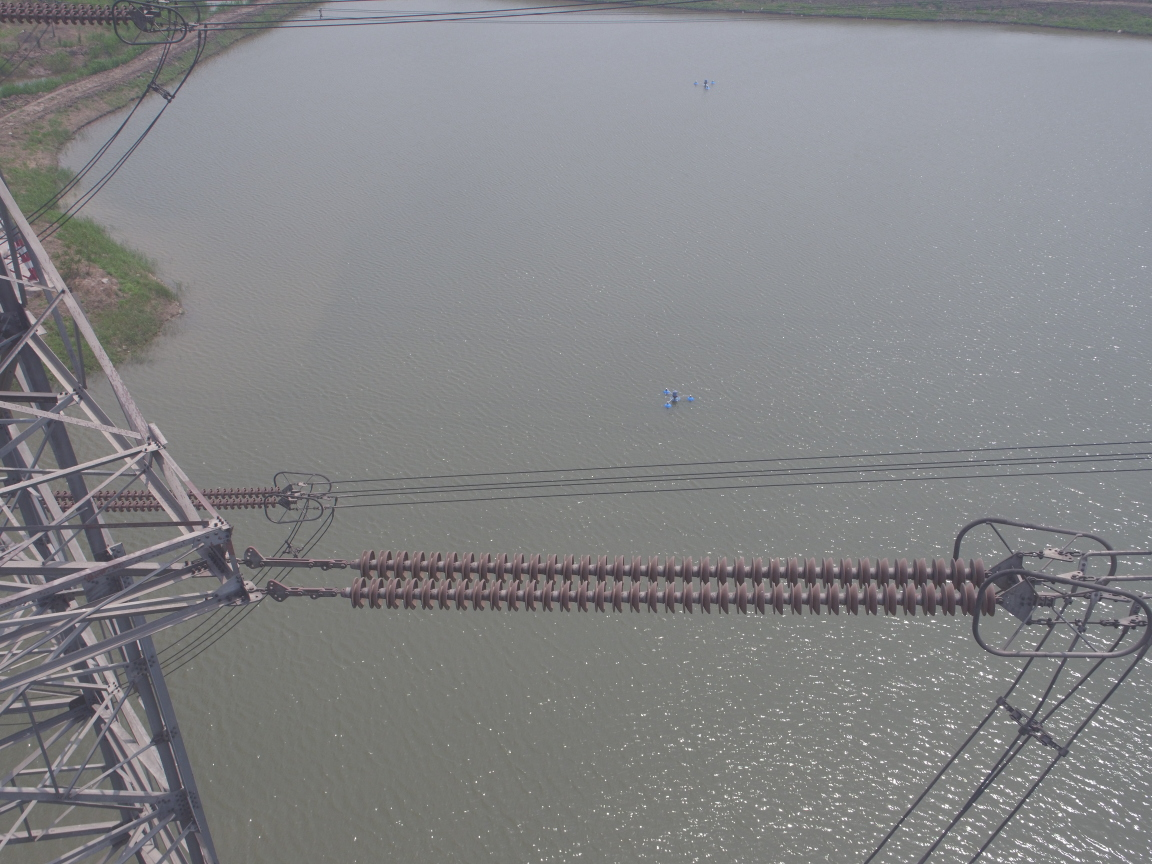insulator: (311, 546, 1002, 618), (50, 485, 295, 513)
